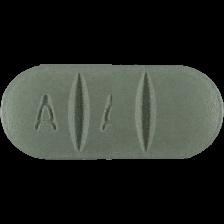16110-502: (0, 0, 224, 224)
